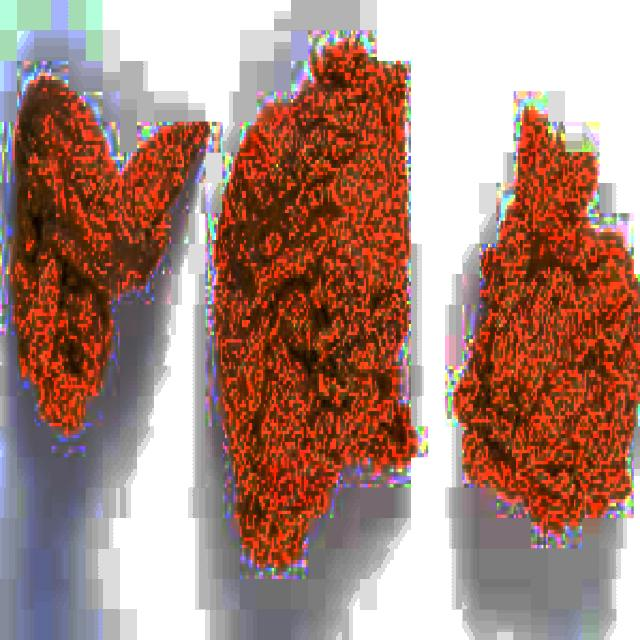fried_chicken: (216, 57, 415, 564), (454, 110, 640, 526), (11, 84, 216, 426)
